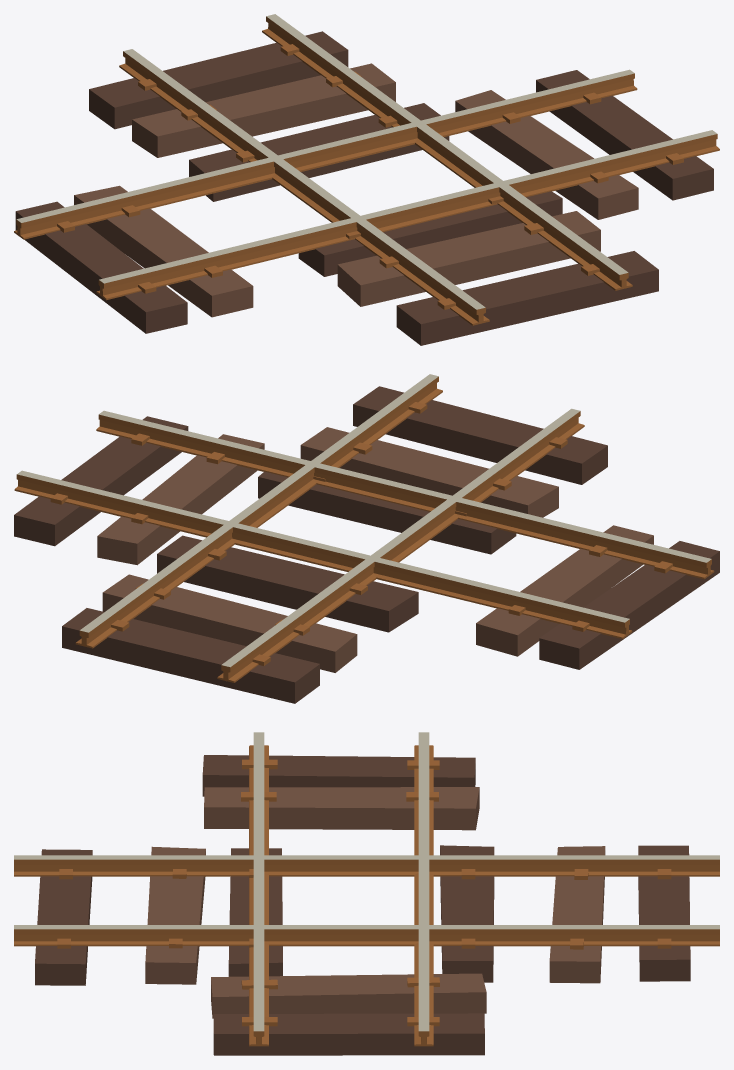
The model's file is Train Track Crossover.glb.
3 views of the same model, one above another, from view 1: azimuth 30°, elevation 25°; view 2: azimuth 150°, elevation 25°; view 3: azimuth 270°, elevation 25° (orthographic).
Parts seen in each view (by area): view 1: Train Track Crossover; view 2: Train Track Crossover; view 3: Train Track Crossover.
Boxes of the visible parts, box(x1,y1,x2,y2) form: Train Track Crossover: box(14, 14, 719, 345); Train Track Crossover: box(14, 374, 719, 703); Train Track Crossover: box(14, 732, 719, 1055).
Size of what is drawn, in the model's own units: 6.01 by 0.3385 by 6.
1 material, 1 textured.
